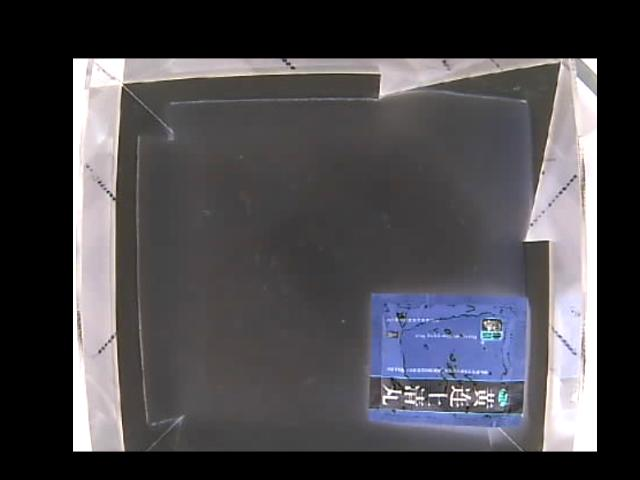Medicine: (369, 291, 528, 426)
